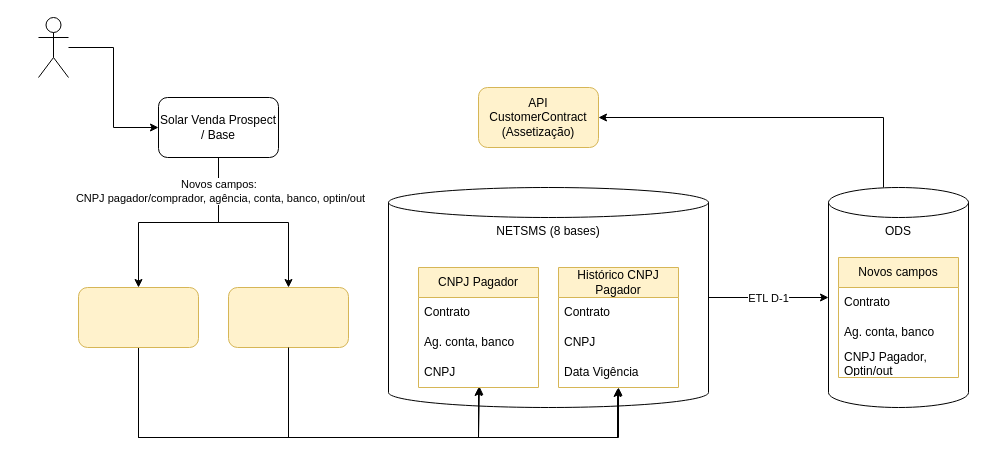
The diagram is 986 pixels wide and 463 high, and some of its shapes have lost their labels. Each missing label, with the centre of its shape:
"API Proposal/Confirmations" goes at pixel 138 317.
"API ProposalSubscriber" goes at pixel 288 317.
"Usuário Solar" goes at pixel 53 47.
